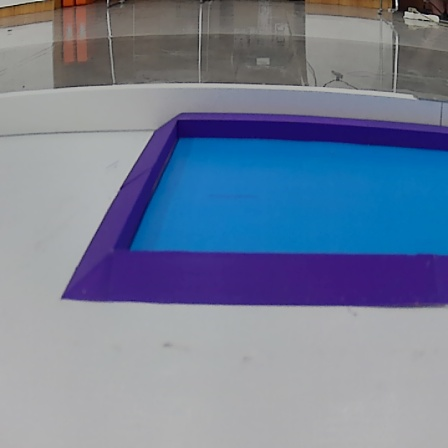blue_aim: (62, 110, 448, 312)
